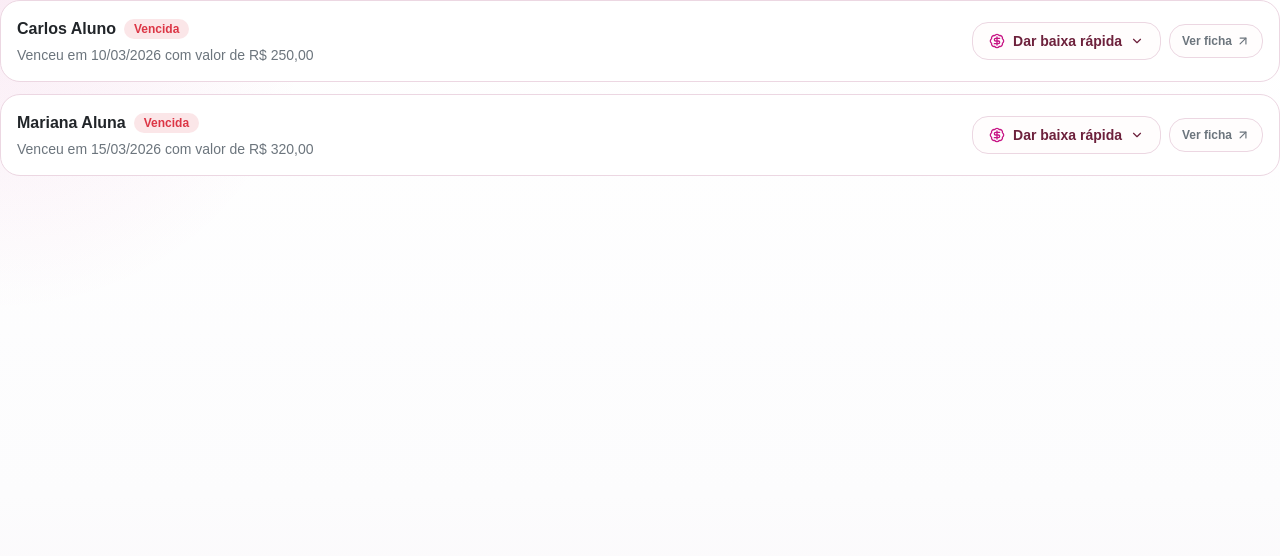
OverdueInvoicesPanel › trata erro da API de forma graciosa sem remover a fatura e permitindo nova tentativa
Click the button "Dar baixa rápida" in the row of "R$ 250,00": point(1066, 41) [972,22,1161,60]
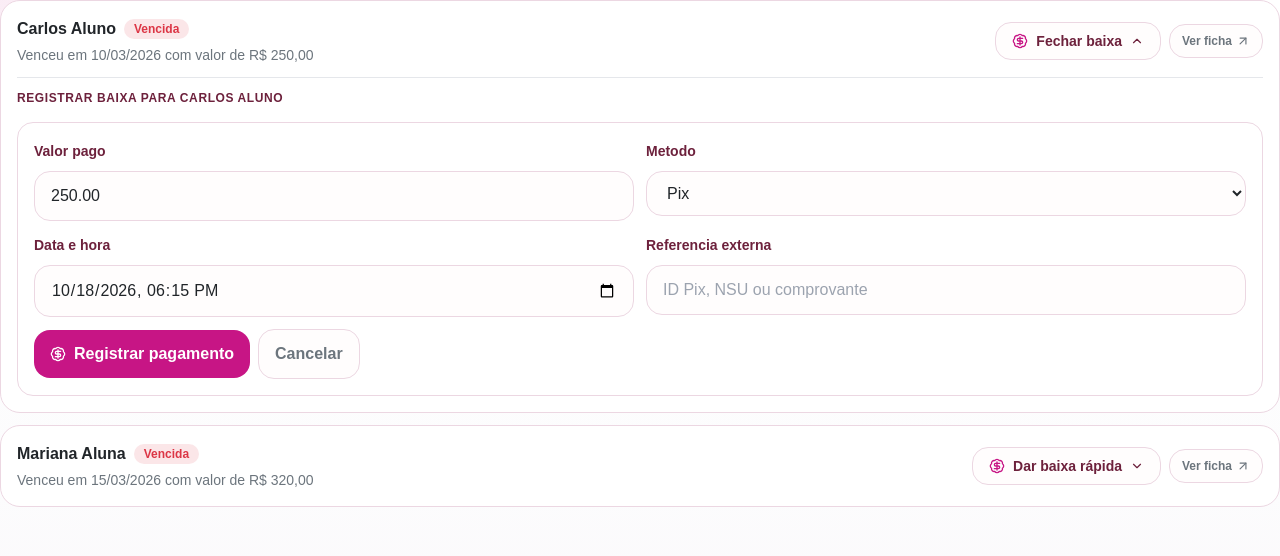
Click the button "Registrar pagamento": point(142, 354) [34,330,250,378]
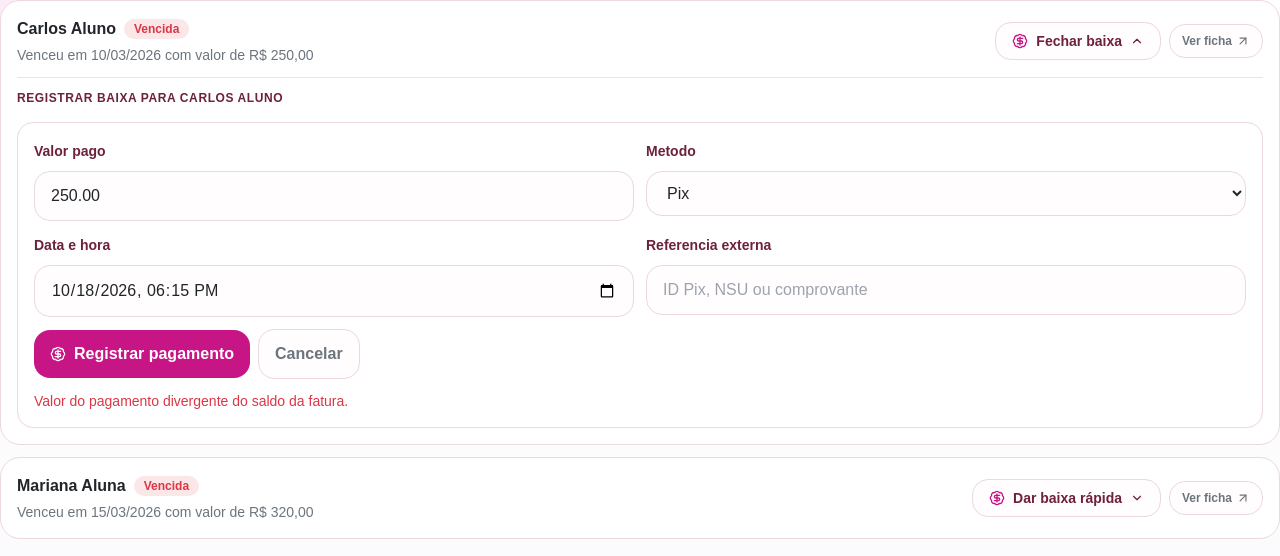
Expected: the text "Carlos Aluno" is shown, [17,17,116,41]
Result: the button "Registrar pagamento" is enabled at [34,330,250,378]
Result: the text "Valor do pagamento divergente do saldo da fatura." is shown at [34,393,348,409]
